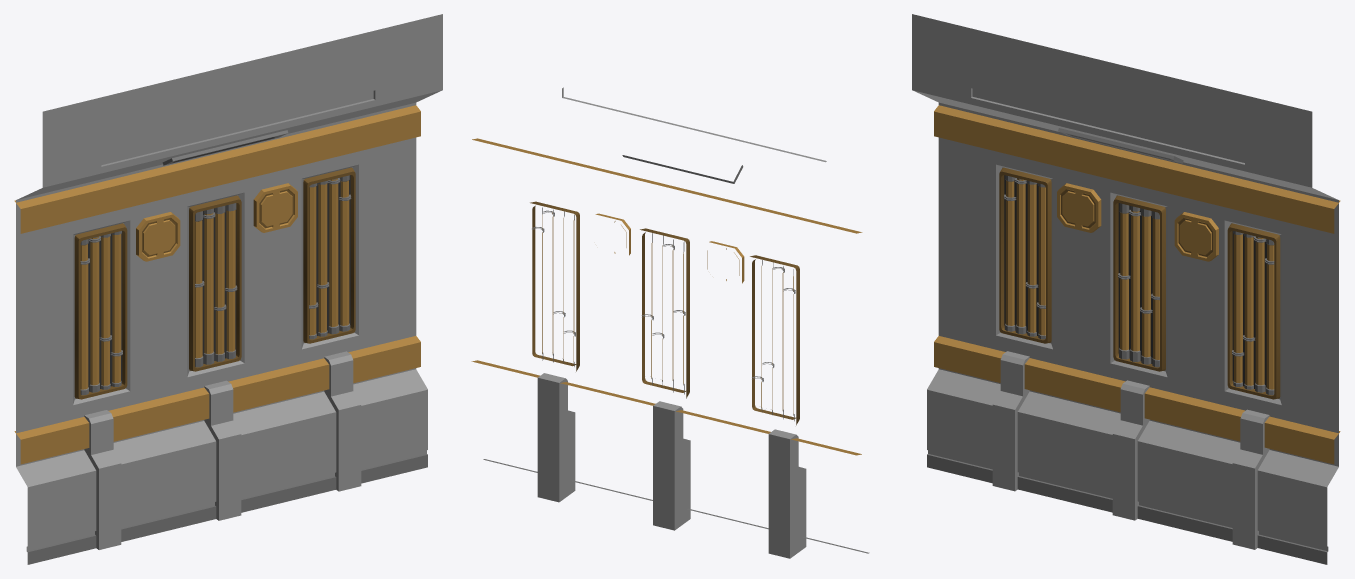
3 views of the same model, side by side, from view 1: azimuth 30°, elevation 25°; view 2: azimuth 150°, elevation 25°; view 3: azimuth 330°, elevation 25° (orthographic). The views are drawn at different scales.
Visible parts, largest first — view 1: Wall_2; view 2: Wall_2; view 3: Wall_2.
Part boxes in pixels (left/top/right/bottom): Wall_2: left=14, top=14, right=442, bottom=564; Wall_2: left=471, top=87, right=869, bottom=558; Wall_2: left=912, top=14, right=1340, bottom=564.
Size of the model in its own units: 4 by 4.43 by 0.5334.
